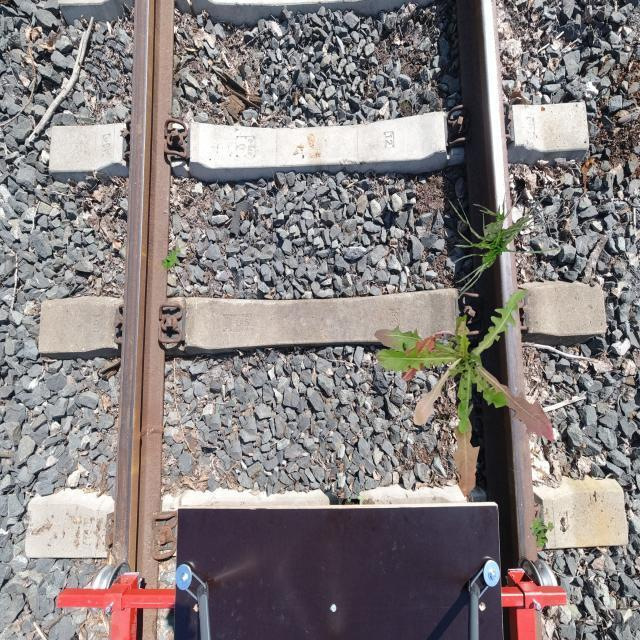Plant: (374, 289, 554, 498), (446, 177, 564, 300), (530, 517, 554, 548), (161, 247, 180, 272)
